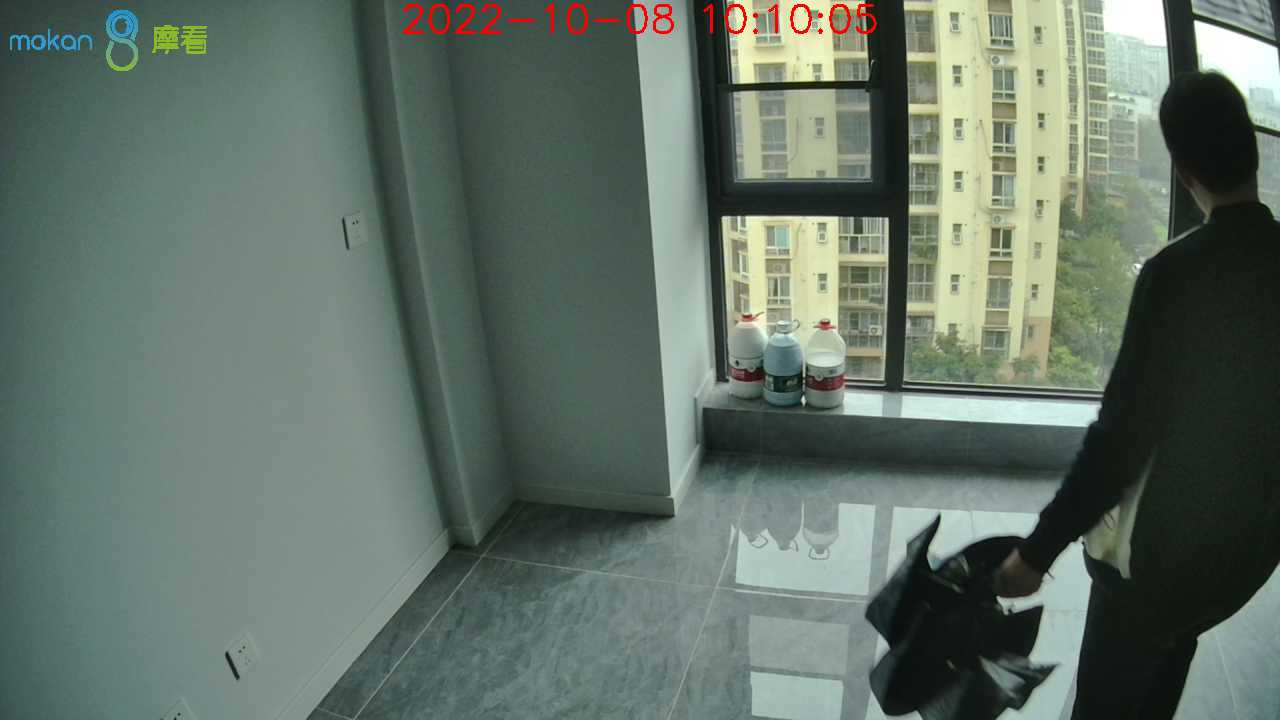people: (995, 73, 1279, 720)
window: (694, 1, 1280, 409)
